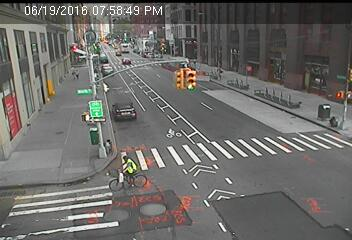neg: (107, 59, 120, 76), (66, 85, 78, 100), (91, 76, 100, 88)
pos: (75, 68, 83, 80), (68, 69, 76, 80)
